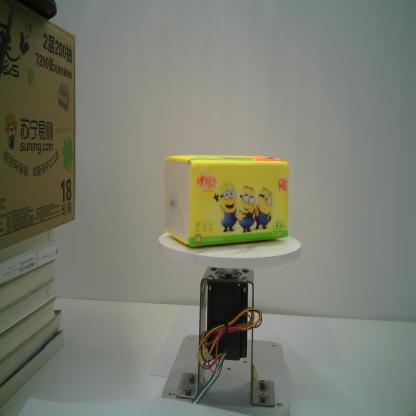Tissue: (162, 152, 291, 249)
